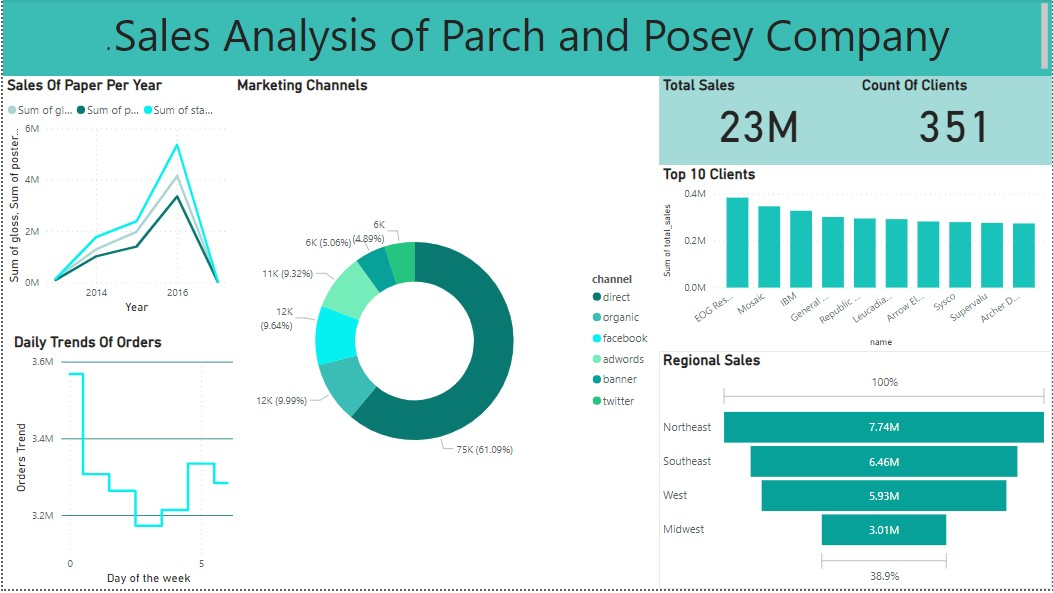

The dashboard page shown, as its layout file describes it:
{"tool":"powerbi","page":{"name":"Page 5","canvas":[1280,720],"ordinal":4},"visuals":[{"type":"textbox","box":[0,0,1280,93.9],"z":0},{"type":"textbox","box":[10,290,280,280],"z":1000},{"type":"textbox","box":[10,570,280,150],"z":2000},{"type":"card","title":"Count Of Clients","fields":{"Values":["Sum(total clients.total_clients)"]},"box":[1043.5,93.9,236.5,109],"z":3000},{"type":"card","title":"Total Sales","fields":{"Values":["Sum(total sales.total_sales)"]},"box":[800.2,93.9,243.3,109],"z":4000},{"type":"lineChart","title":"Sales Of Paper Per Year","fields":{"Category":["papers per year.year.Variation.Date Hierarchy.Year"],"Y":["Sum(papers per year.gloss)","Sum(papers per year.poster)","Sum(papers per year.standard)"]},"box":[0,93.9,280.2,295.3],"z":5000},{"type":"lineChart","title":"Daily Trends Of Orders","fields":{"Category":["pp 9.day_of_week"],"Y":["Sum(pp 9.total_order_amount)"]},"box":[8.4,407.7,280.2,312],"z":6000},{"type":"donutChart","title":"Marketing Channels","fields":{"Y":["Sum(pp 8.num_web_events)"],"Category":["pp 8.channel"]},"box":[280.2,93.9,520.1,625.7],"z":7000},{"type":"funnel","title":"Regional Sales","fields":{"Category":["kpi quest 1.name"],"Y":["Sum(kpi quest 1.total_sales)"]},"box":[800.2,429.5,479.8,290.2],"z":8000},{"type":"columnChart","title":"Top 10 Clients","fields":{"Category":["top 10 clients.name"],"Y":["Sum(top 10 clients.total_sales)"]},"box":[800.2,203,479.8,226.5],"z":9000}]}

Visuals, with their boxes in screenshot pixels (x1, y1, x2, y2), scaled from the page's 1280x720 canvas onto the 1053x593 screenshot:
textbox: [x1=0, y1=0, x2=1052, y2=77]
textbox: [x1=8, y1=239, x2=239, y2=469]
textbox: [x1=8, y1=469, x2=239, y2=592]
"Count Of Clients" card: [x1=858, y1=77, x2=1052, y2=167]
"Total Sales" card: [x1=658, y1=77, x2=858, y2=167]
"Sales Of Paper Per Year" lineChart: [x1=0, y1=77, x2=231, y2=321]
"Daily Trends Of Orders" lineChart: [x1=7, y1=336, x2=237, y2=592]
"Marketing Channels" donutChart: [x1=231, y1=77, x2=658, y2=592]
"Regional Sales" funnel: [x1=658, y1=354, x2=1052, y2=592]
"Top 10 Clients" columnChart: [x1=658, y1=167, x2=1052, y2=354]
